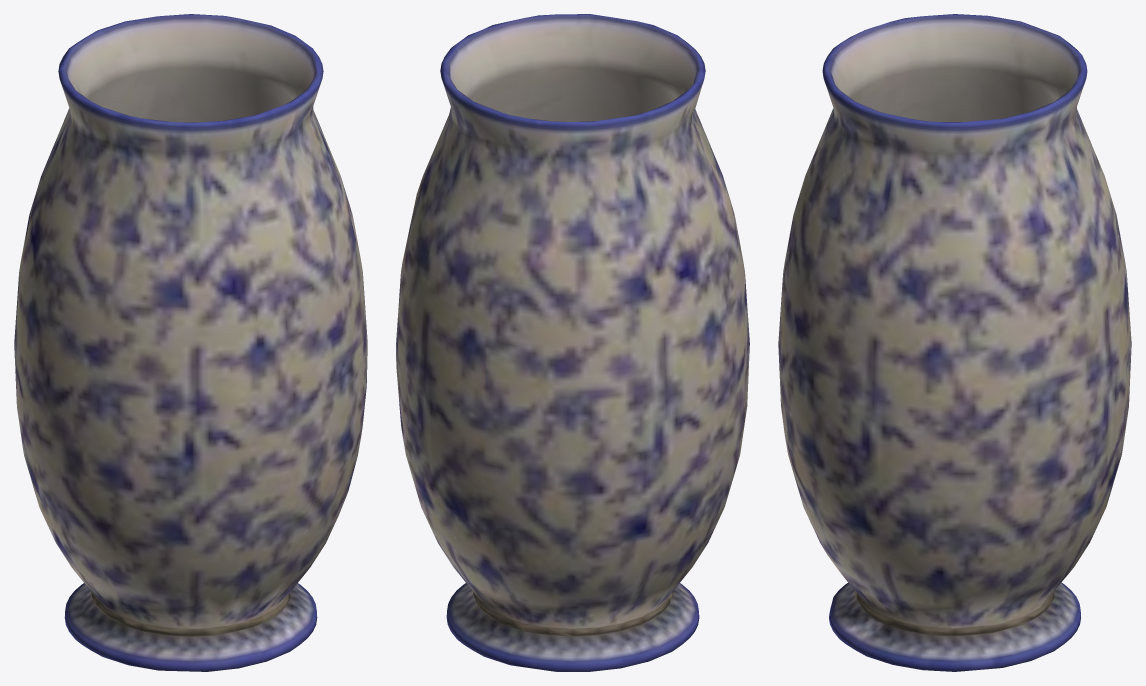
File: antique_ceramic_vase_01.glb
3 views of the same model, side by side, from view 1: azimuth 30°, elevation 25°; view 2: azimuth 150°, elevation 25°; view 3: azimuth 270°, elevation 25° (orthographic).
Parts seen in each view (by area): view 1: antique_ceramic_vase_01; view 2: antique_ceramic_vase_01; view 3: antique_ceramic_vase_01.
Part boxes in pixels (x1,y1,x2,y2): antique_ceramic_vase_01: (14,14,367,671); antique_ceramic_vase_01: (396,14,749,671); antique_ceramic_vase_01: (778,14,1131,671).
Size of the model in its own units: 0.255 by 0.4396 by 0.255.
Materials: 1 (1 with a texture image).
